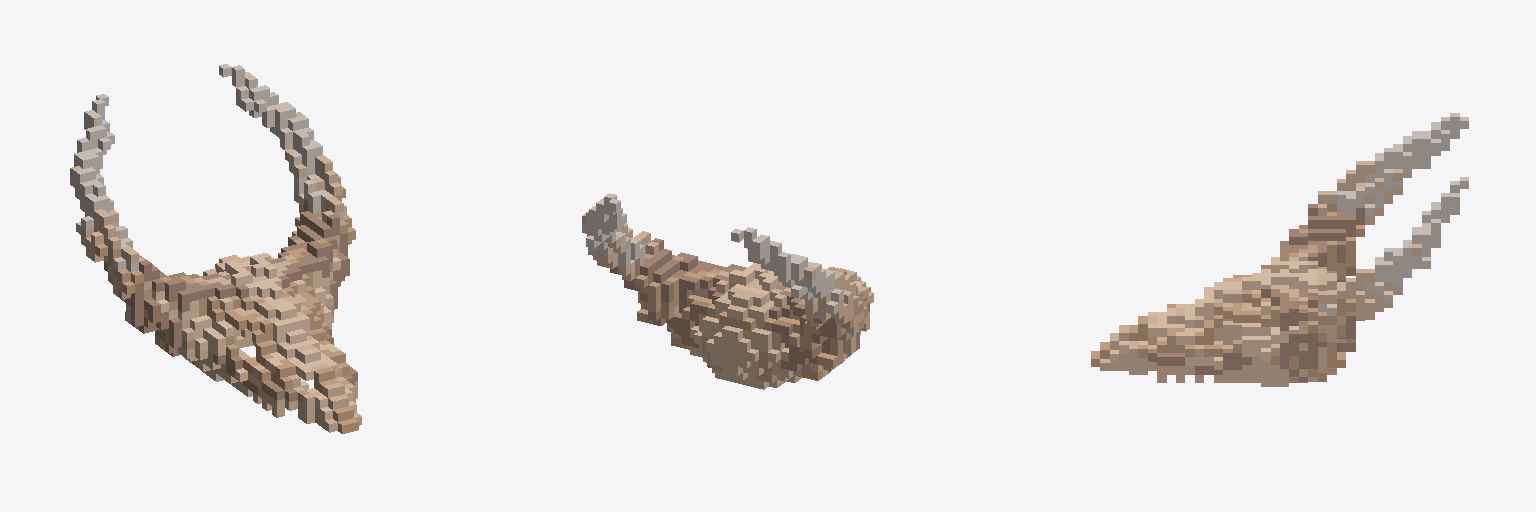
3 views of the same model, side by side, from view 1: azimuth 30°, elevation 25°; view 2: azimuth 150°, elevation 25°; view 3: azimuth 270°, elevation 25° (orthographic).
Visible parts, largest first — view 1: object 1; view 2: object 1; view 3: object 1.
Boxes of the visible parts, x1=… form: object 1: x1=70, y1=64, x2=361, y2=433; object 1: x1=582, y1=193, x2=873, y2=389; object 1: x1=1091, y1=113, x2=1468, y2=386.
Size of the model in its own units: 3 by 2.5 by 4.
1 materials, 1 textured.